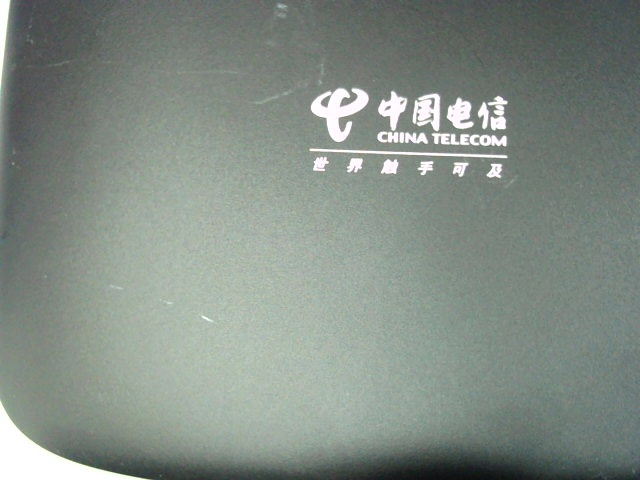AB_ChinaTelecom: (301, 86, 517, 180)
